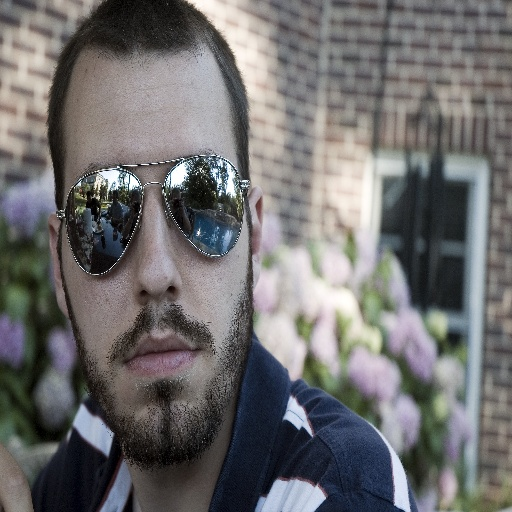hand: (0, 444, 33, 511)
